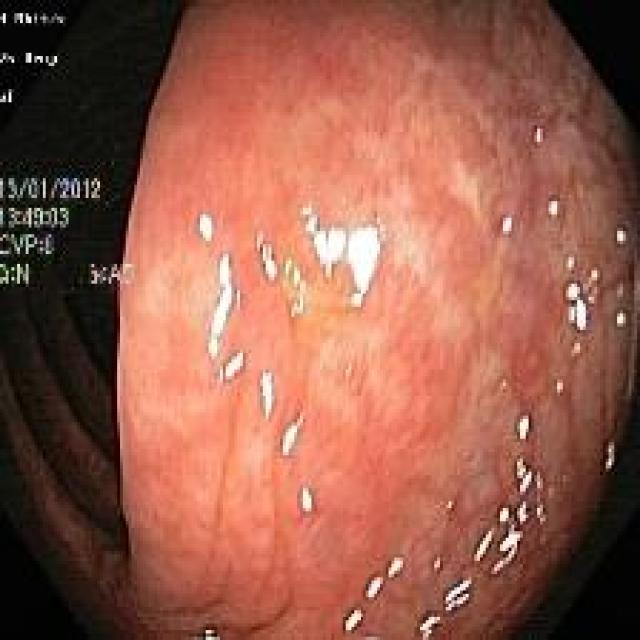ulcerative-colitis-grade-1: (118, 4, 638, 640)
